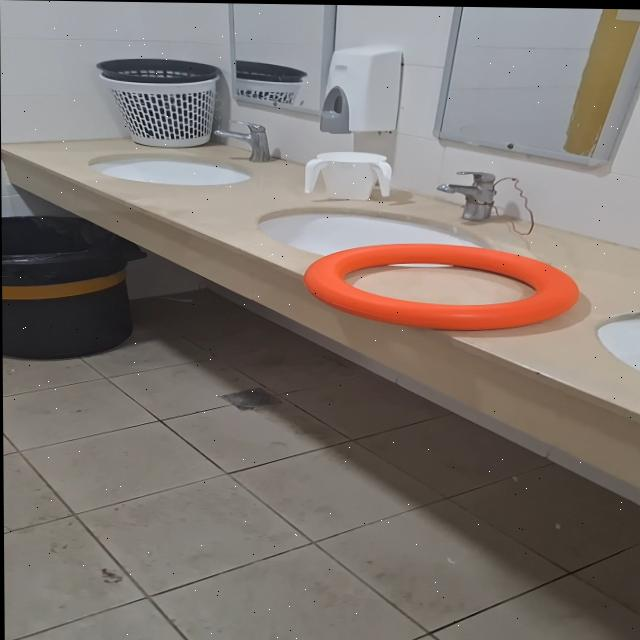note: (301, 239, 581, 332)
